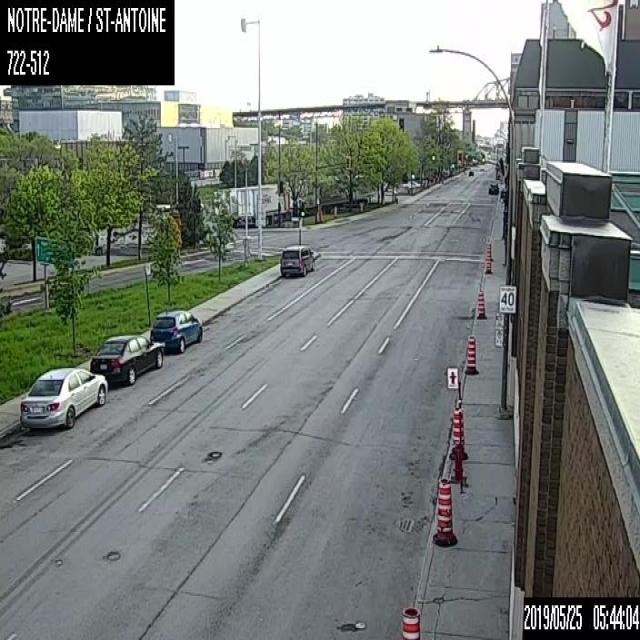construction: (431, 479, 458, 545), (449, 405, 469, 460), (398, 604, 421, 639), (464, 335, 480, 376), (476, 288, 488, 319), (484, 251, 492, 273)
vehicle: (19, 367, 107, 428), (90, 333, 164, 383), (236, 182, 293, 226), (150, 307, 202, 353), (279, 241, 314, 276), (487, 180, 499, 193), (467, 170, 473, 176)
